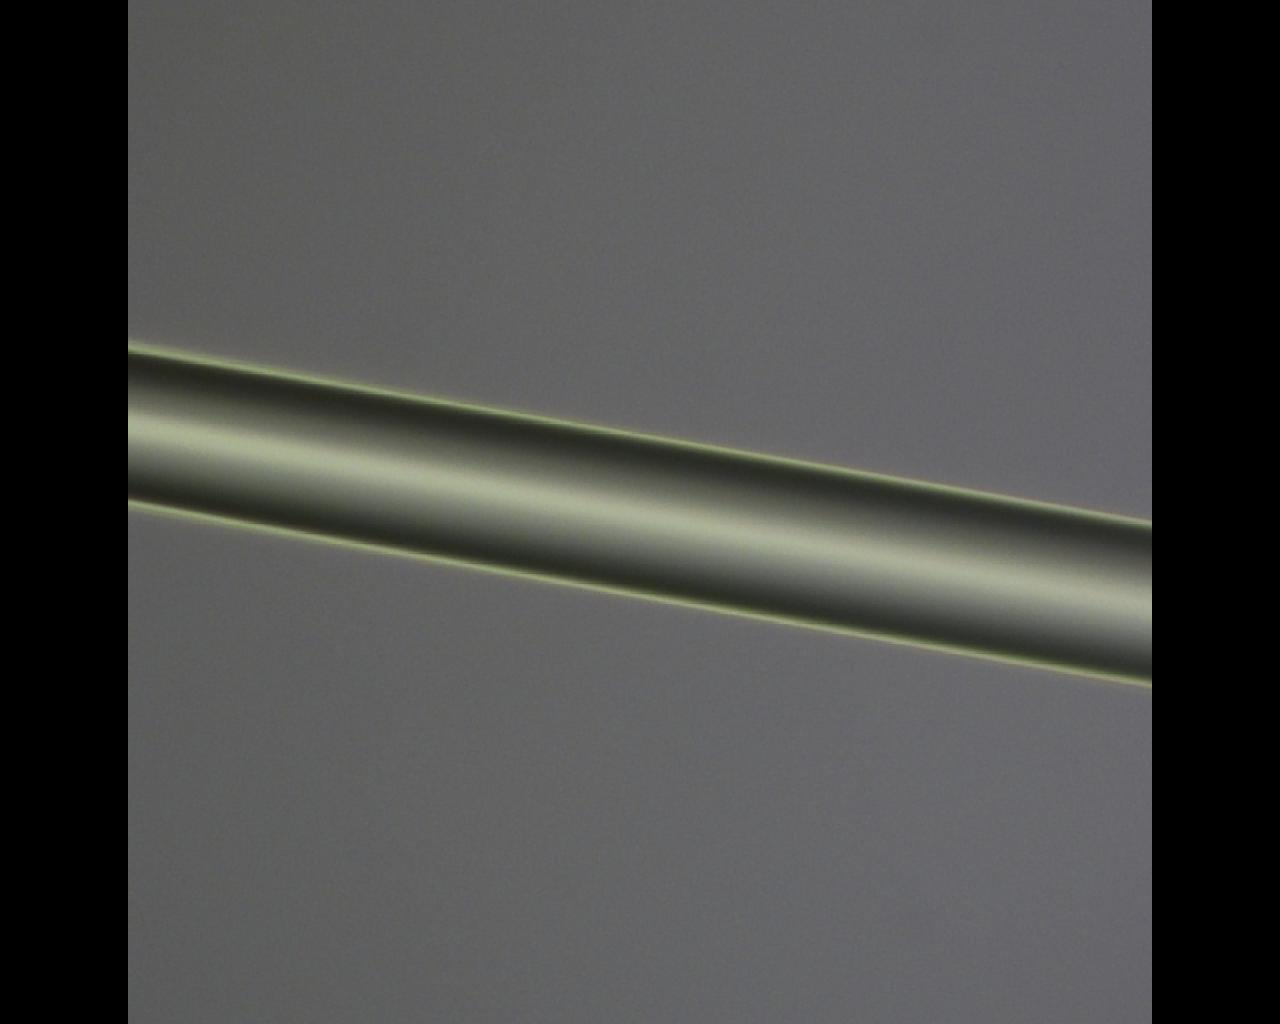fiber: (658, 0, 761, 1024)
